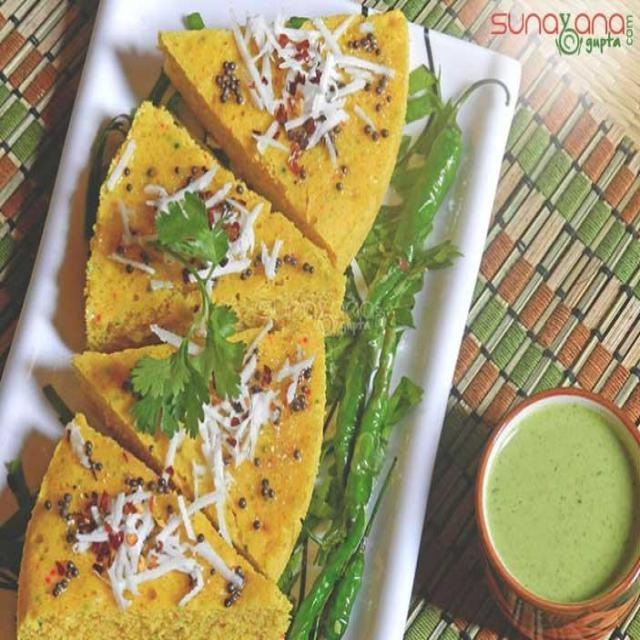dhokla: (25, 3, 391, 640)
